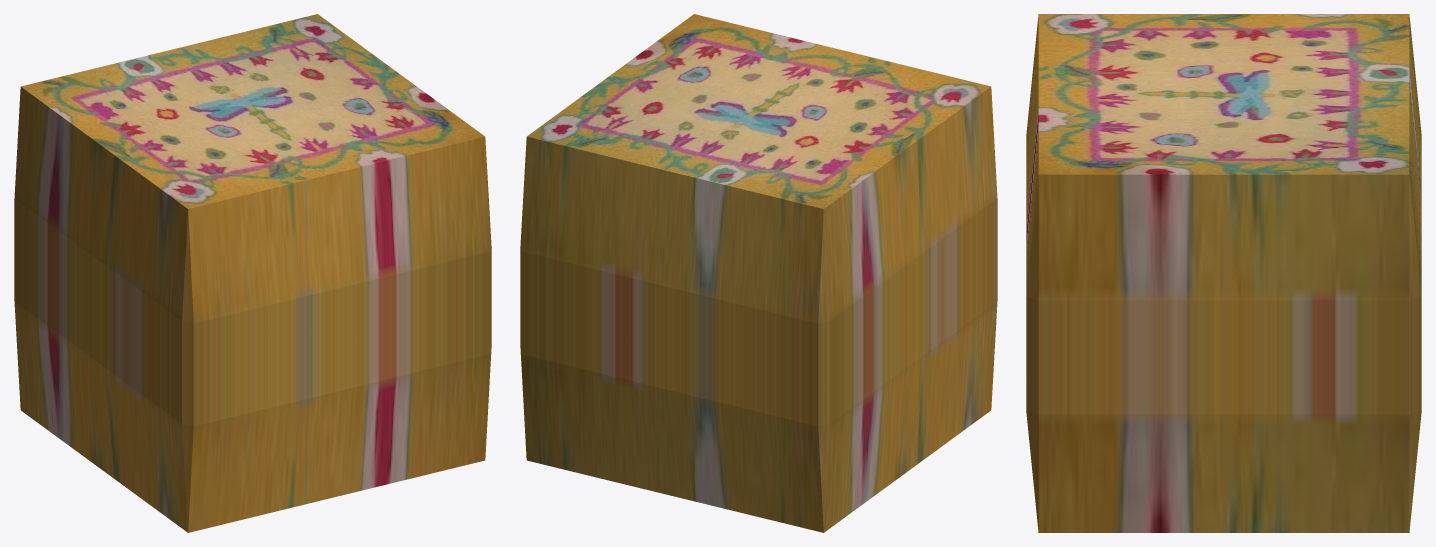
The model's file is sh-kl-bathmat.glb.
3 views of the same model, side by side, from view 1: azimuth 30°, elevation 25°; view 2: azimuth 150°, elevation 25°; view 3: azimuth 270°, elevation 25° (orthographic). The views are drawn at different scales.
Parts seen in each view (by area): view 1: Bathmat; view 2: Bathmat; view 3: Bathmat.
Boxes of the visible parts, x1,y1,x2,y2 form: Bathmat: [14, 14, 491, 532]; Bathmat: [520, 14, 997, 532]; Bathmat: [1026, 14, 1421, 532].
Size of the model in its own units: 1 by 1 by 1.
Materials: 1 (1 with a texture image).
